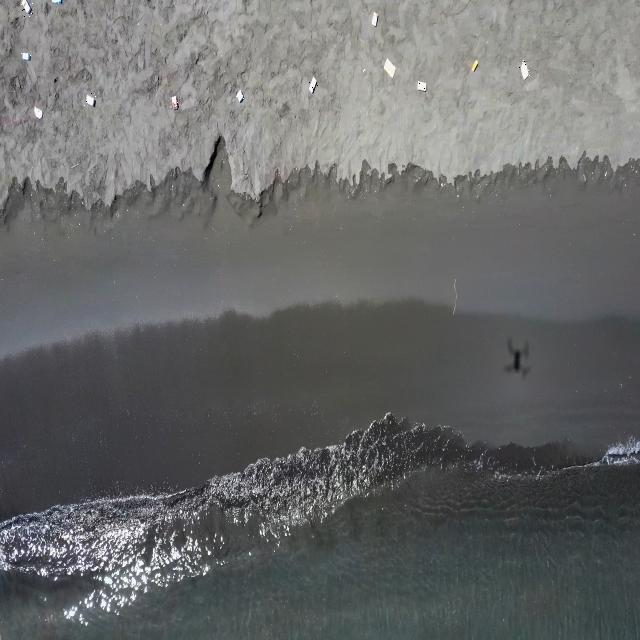retort-pouch: (381, 56, 398, 80), (519, 60, 530, 82), (18, 0, 32, 17), (308, 74, 318, 97), (84, 93, 97, 108), (416, 80, 428, 94), (235, 88, 245, 104), (33, 106, 44, 120), (371, 10, 379, 28), (170, 95, 178, 112), (21, 51, 31, 63), (471, 58, 479, 73)
